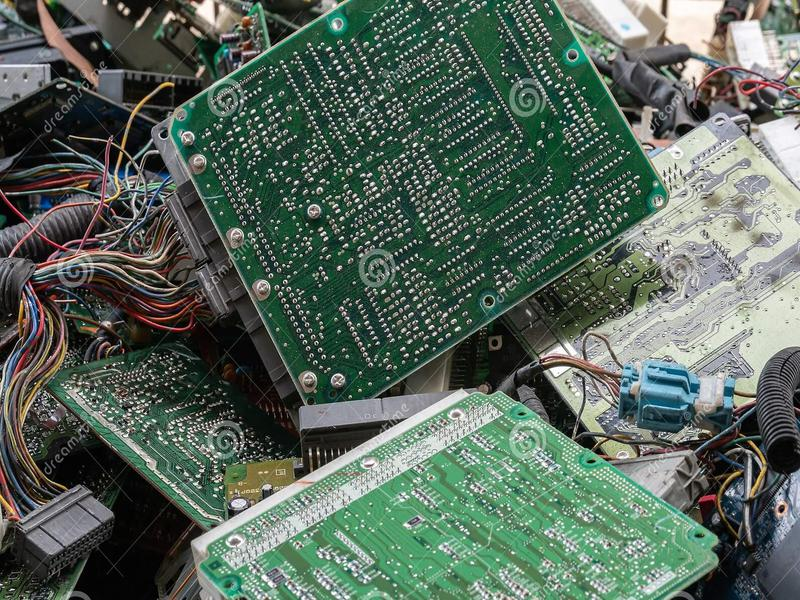circuit_board: (117, 1, 681, 404), (187, 384, 732, 600), (527, 108, 797, 452), (30, 344, 307, 529)
